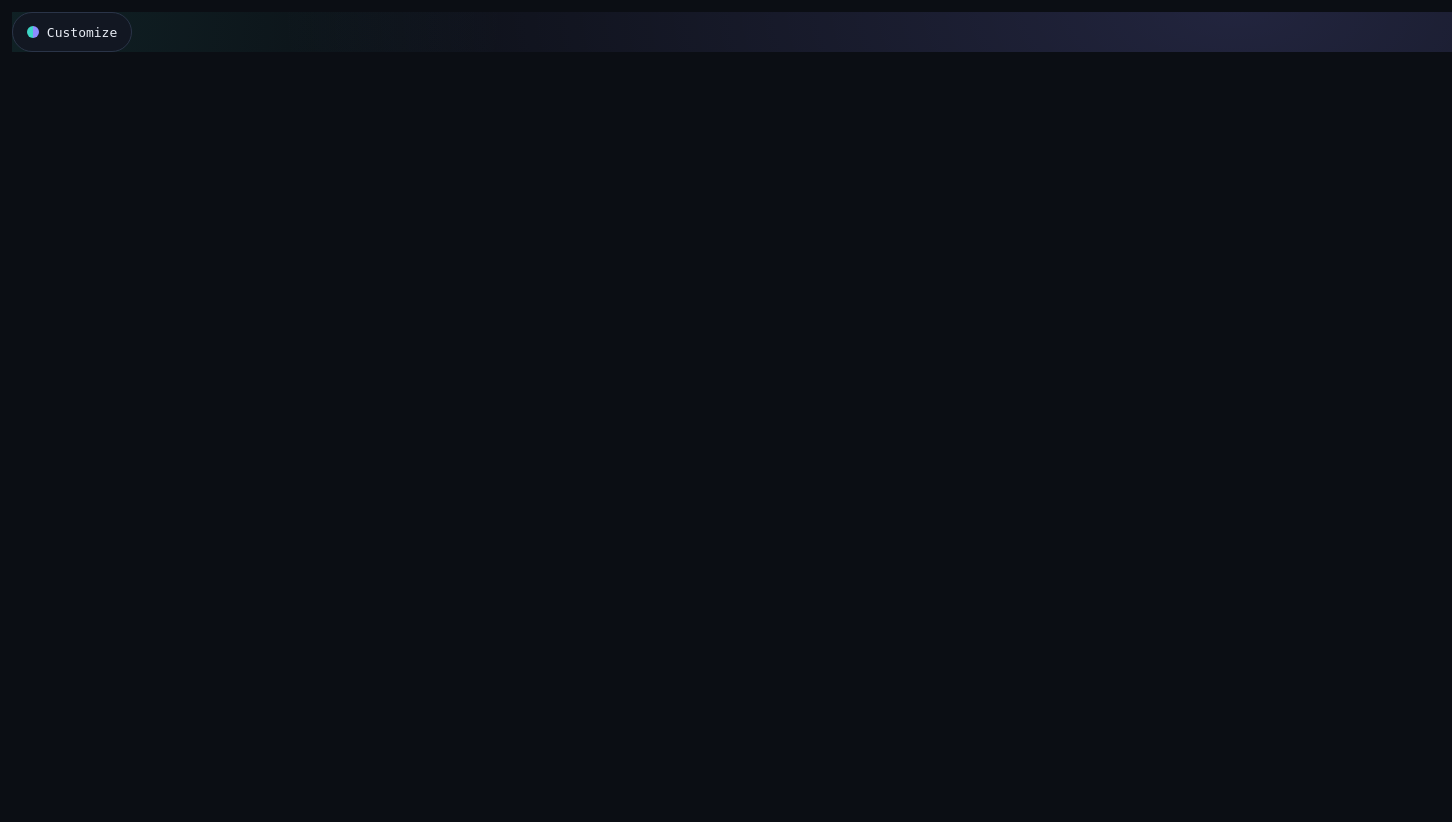
Test: ThemePicker › a custom accent #ffff00 gets the black or white ink with more contrast (at least 4.5:1)
The width and height of the screenshot is (1452, 822).
Click the button "Customize" at (72, 32), box x1=12 y1=12 x2=132 y2=52
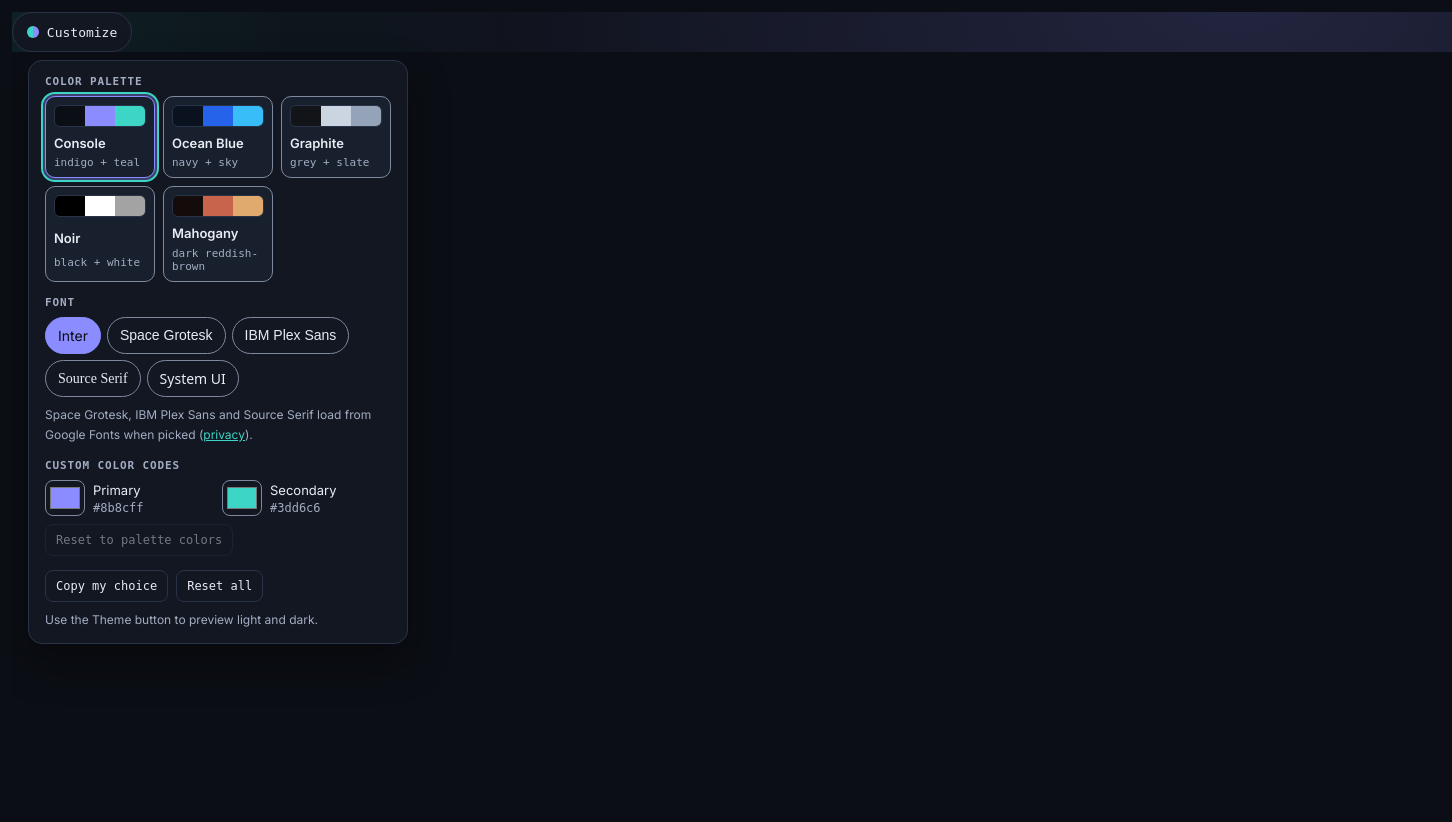
Type "#ffff00" into the colour field labelled "Primary #8b8cff" at (65, 498), box x1=45 y1=480 x2=85 y2=516
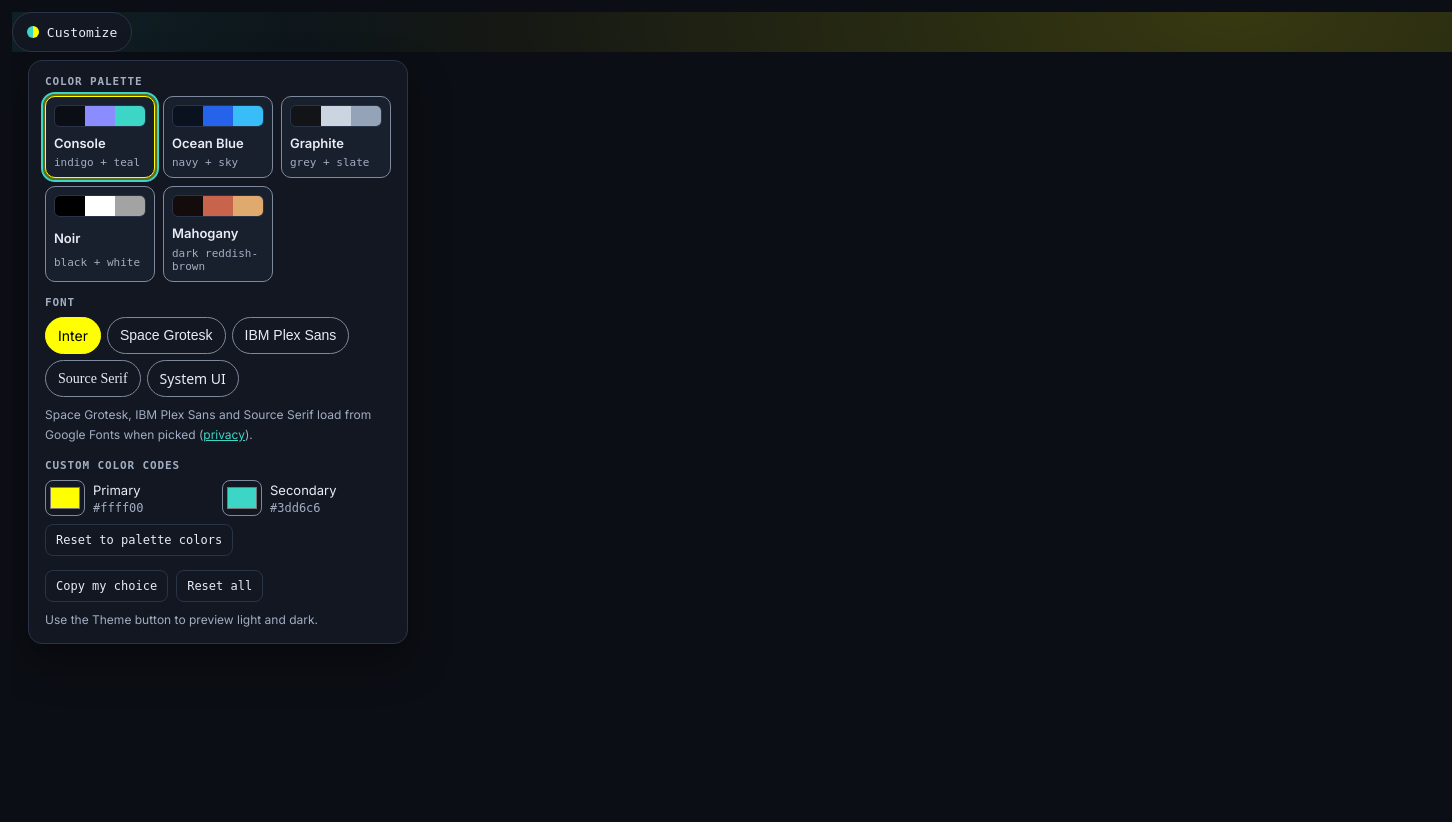
Check: the text "#ffff00" is shown, box x1=93 y1=501 x2=144 y2=515
